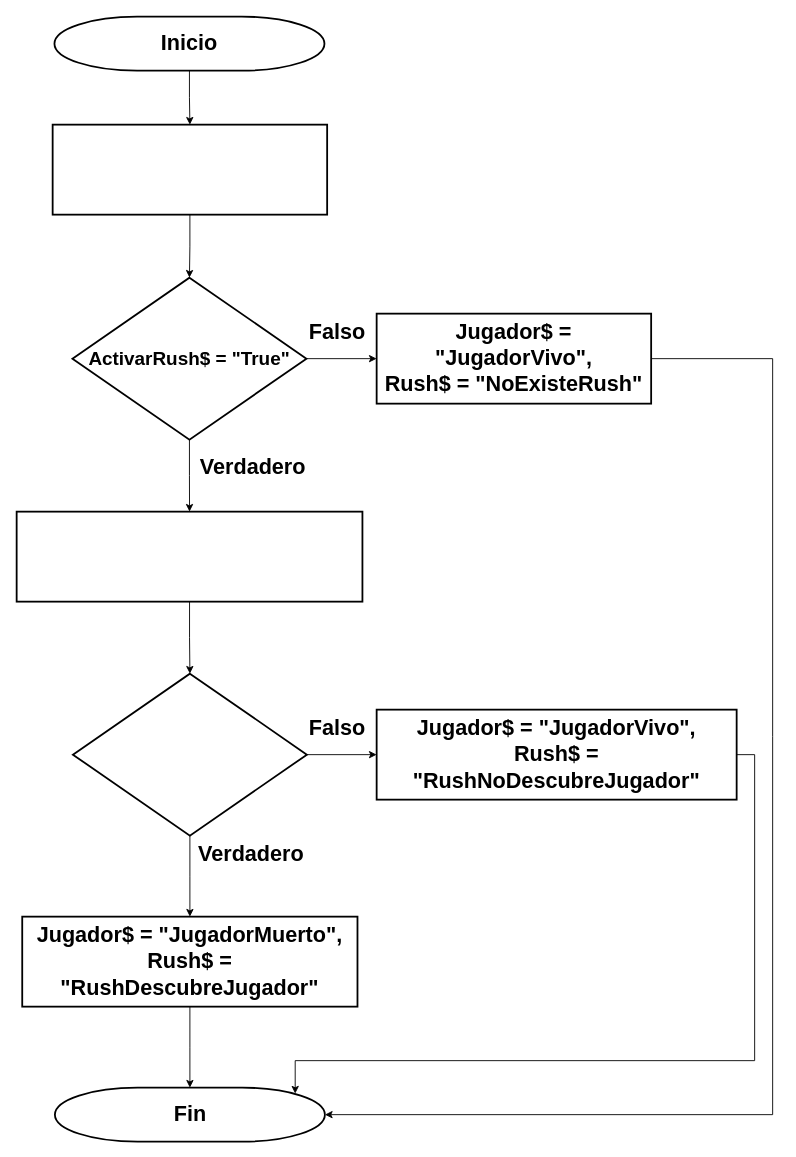
The diagram is 796 pixels wide and 1157 high, and some of its shapes have lost their labels. Here are the shapes that lost their labels. From the top down, the centre of each, then its label:
point (189, 169): Puerta$ = "AbrirPuerta"
point (189, 556): Luces$ = "ApagaryPrenderLuces", Rush$ = "MoverRush"
point (189, 754): JugadorDescubierto$ = "True"
